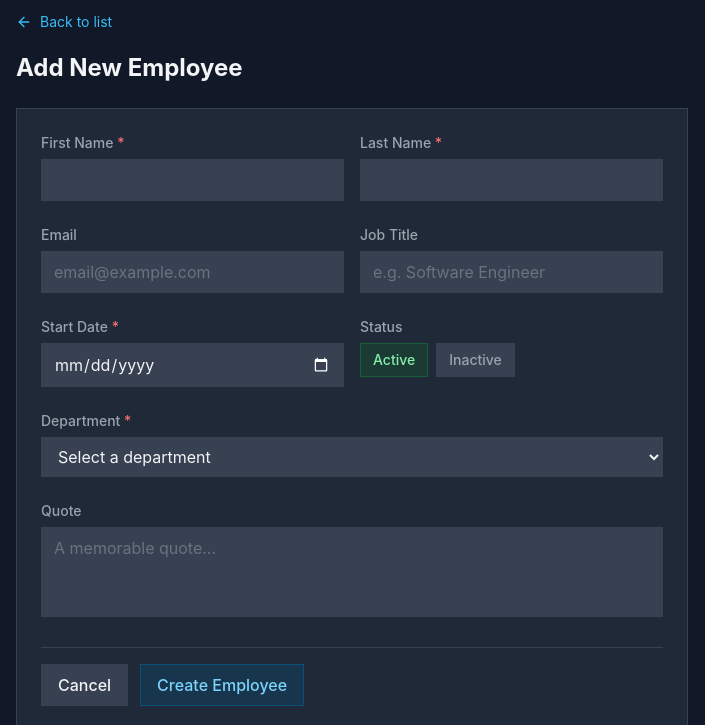
Test: EmployeeForm › validation › clears error when field is corrected
The width and height of the screenshot is (705, 725).
Click the button "Create Employee" at (222, 685), box x1=140 y1=664 x2=304 y2=706
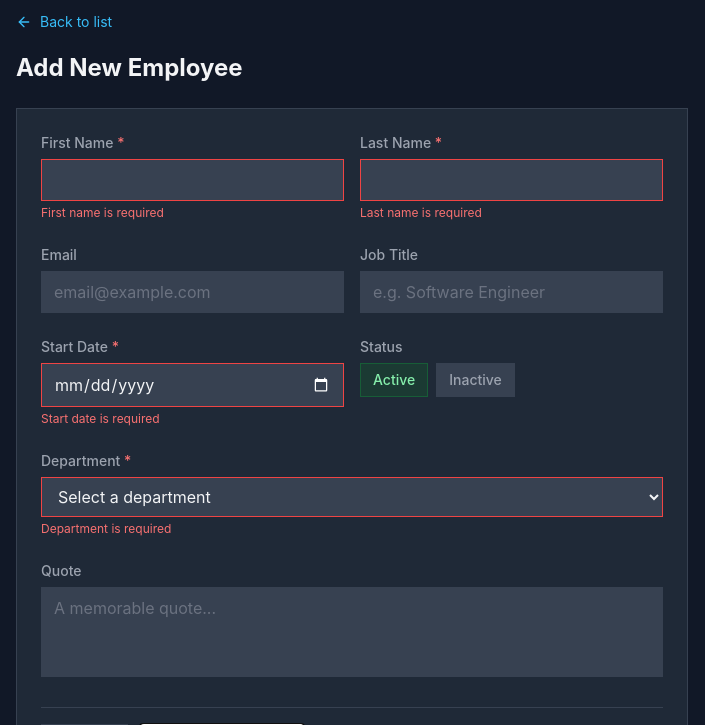
Check: the text "First name is required" is shown, box x1=41 y1=205 x2=164 y2=220
Type "John" into the field labelled "First Name *" at (192, 180), box x1=41 y1=159 x2=344 y2=201
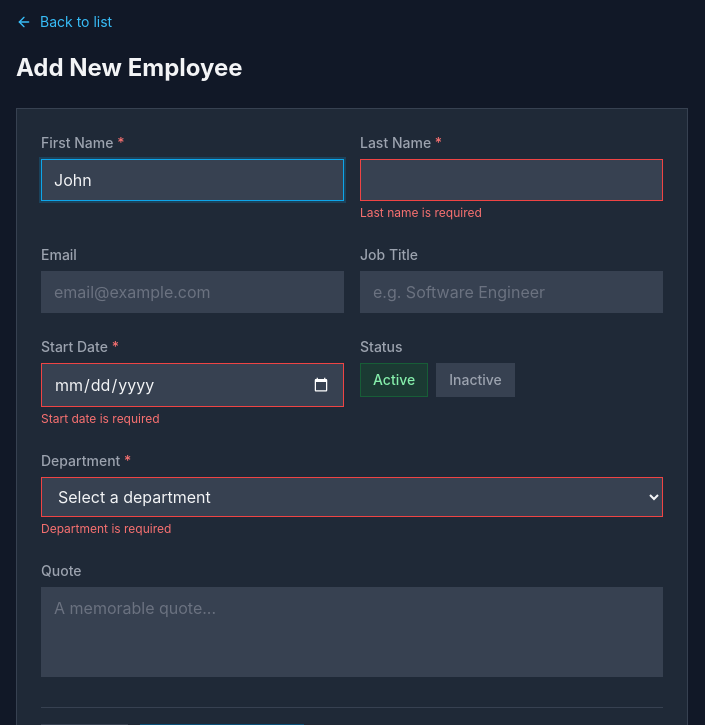
Check: the text "First name is required" is gone
